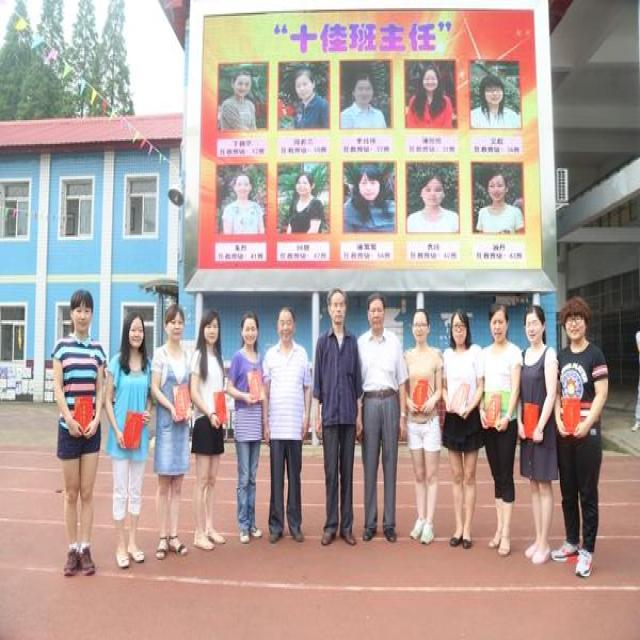non-fight: (542, 298, 612, 580), (47, 285, 109, 576), (146, 299, 202, 562), (310, 286, 364, 548), (258, 304, 311, 546), (476, 301, 525, 557), (400, 300, 450, 546), (107, 313, 148, 567), (228, 308, 264, 543)
